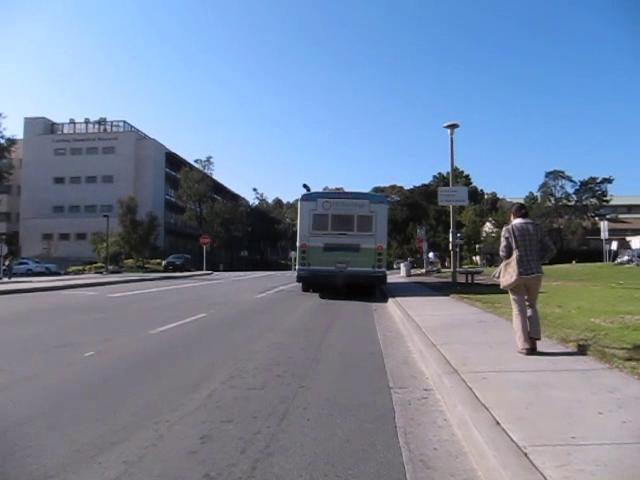stop: (198, 233, 211, 247)
